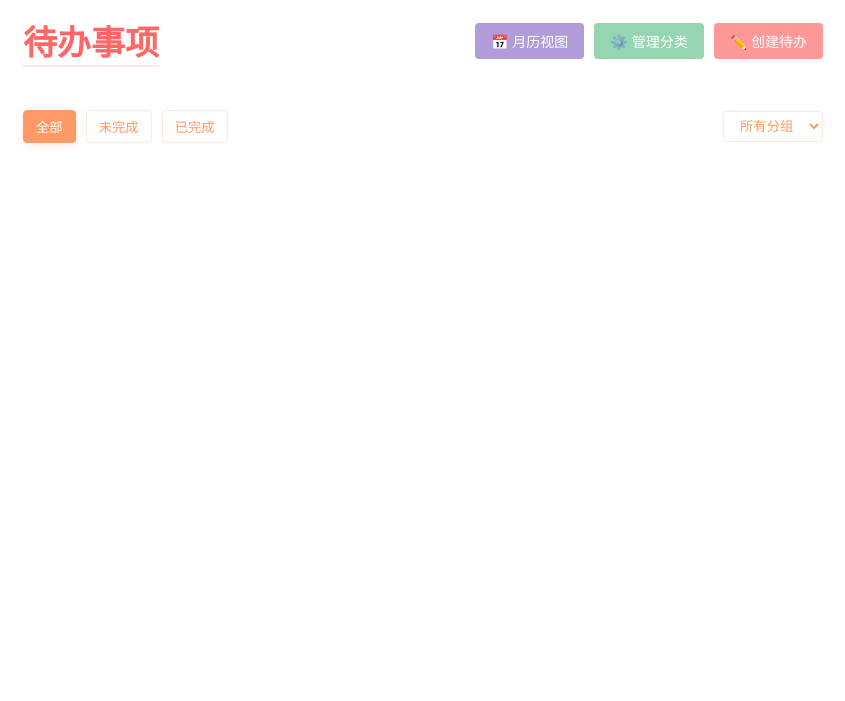
Test case: Todo List Tests › Create Todo Tests › should open create modal when create button is clicked
Click the button with class "create-btn": (768, 41) [714,23,823,59]
(page scrolled)
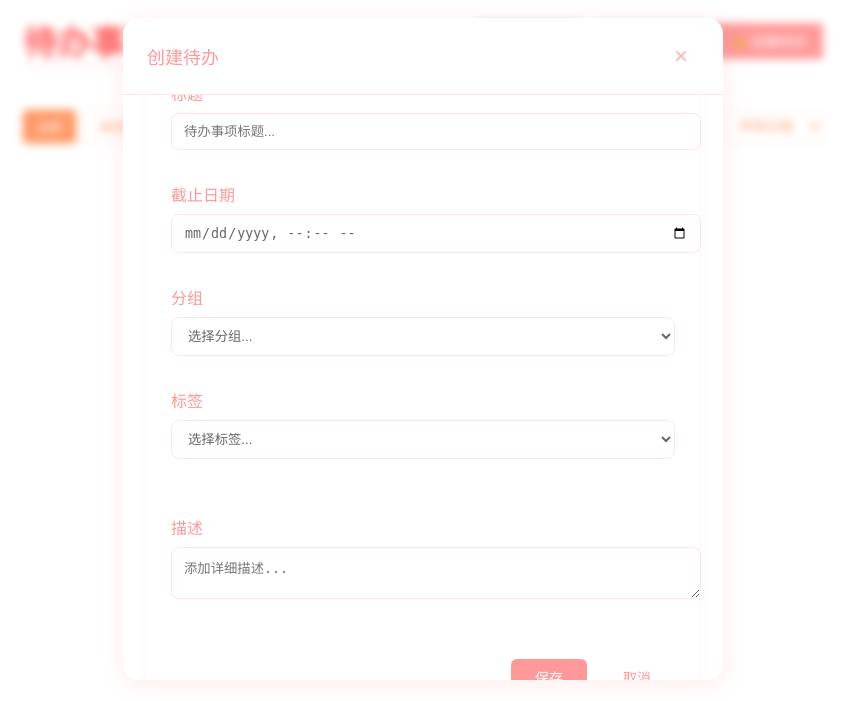
Check: the form is shown, box [147,95,699,680]
